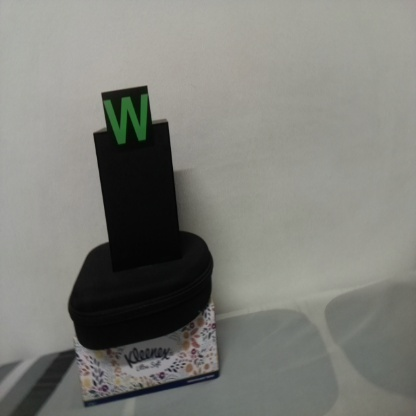id_12: (102, 91, 155, 155)
